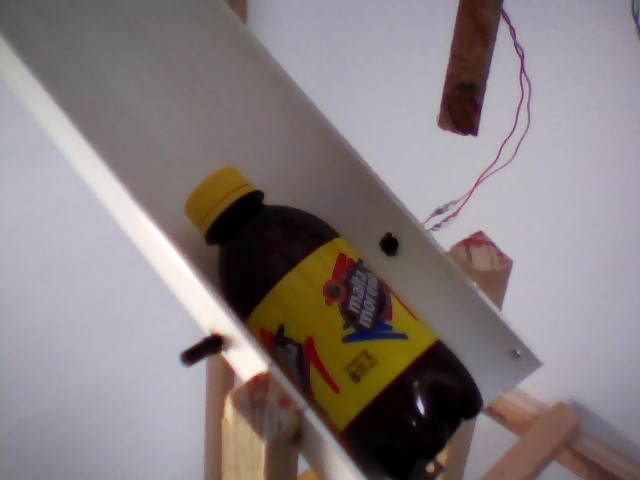plastico: (168, 162, 488, 480)
